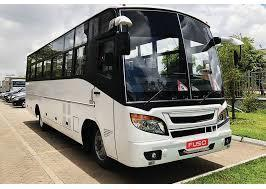bus: (25, 5, 231, 172)
